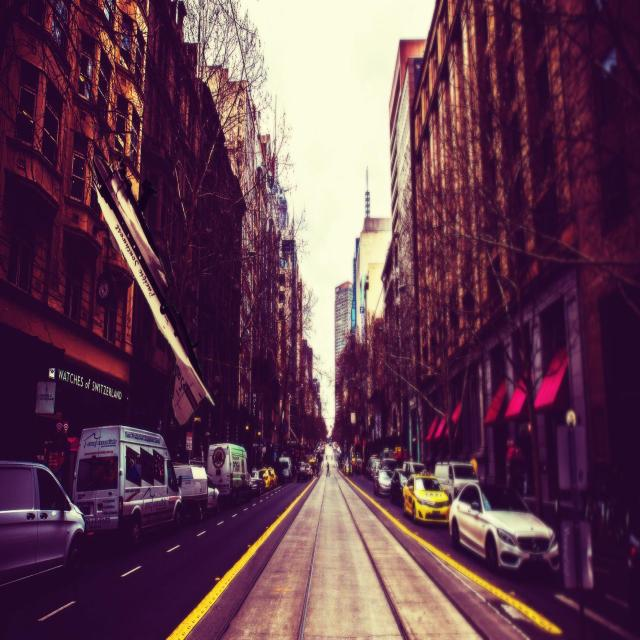airplane: (90, 153, 216, 426)
